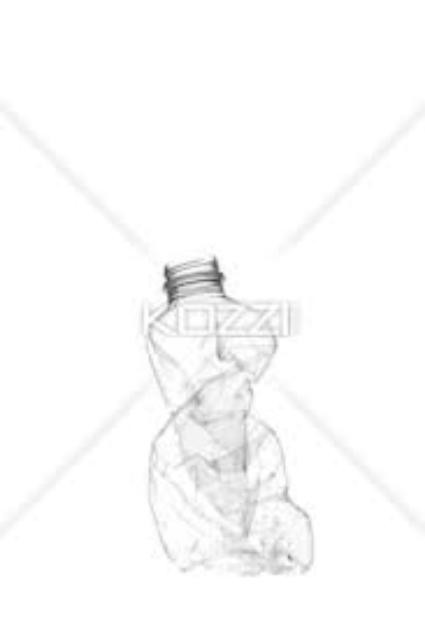plastic: (144, 256, 310, 570)
